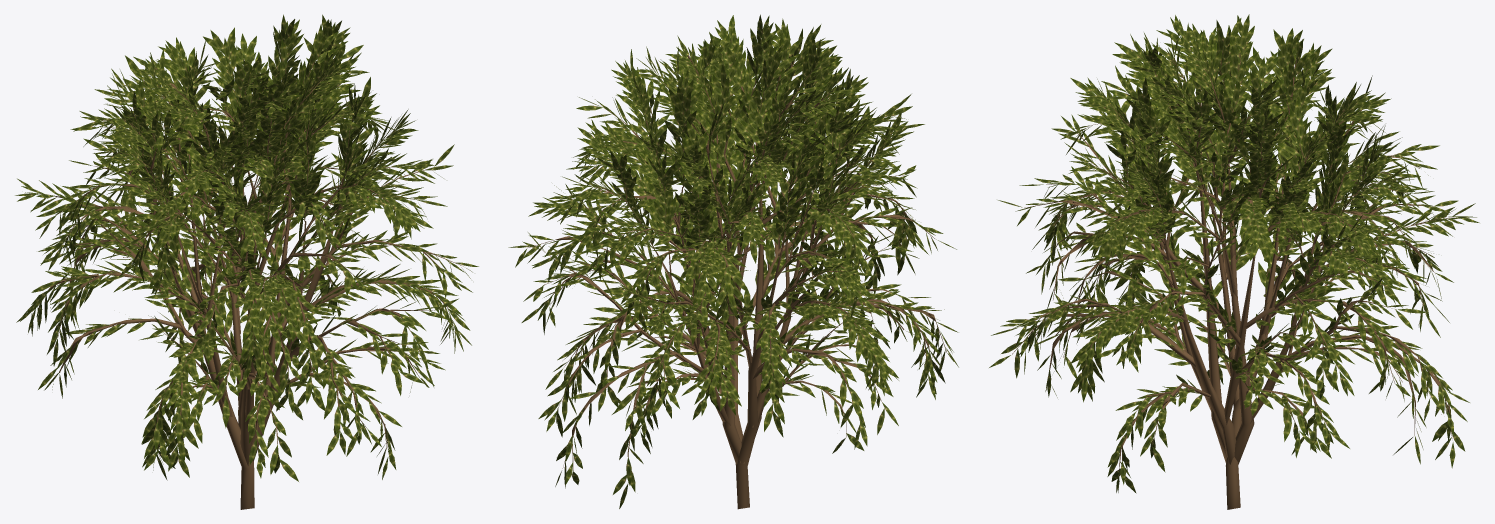
File: arbolAves.fbx
The picture shows the model from 3 angles, left to right: view 1: azimuth 30°, elevation 25°; view 2: azimuth 150°, elevation 25°; view 3: azimuth 270°, elevation 25°; orthographic projection. The views are drawn at different scales.
Parts seen in each view (by area): view 1: leaves; view 2: leaves; view 3: leaves.
Part boxes in pixels (x1=…): leaves: x1=15, y1=14, x2=478, y2=509; leaves: x1=508, y1=14, x2=958, y2=509; leaves: x1=989, y1=14, x2=1479, y2=509.
Bounding box in the file's own units: 545 × 674 × 625.
